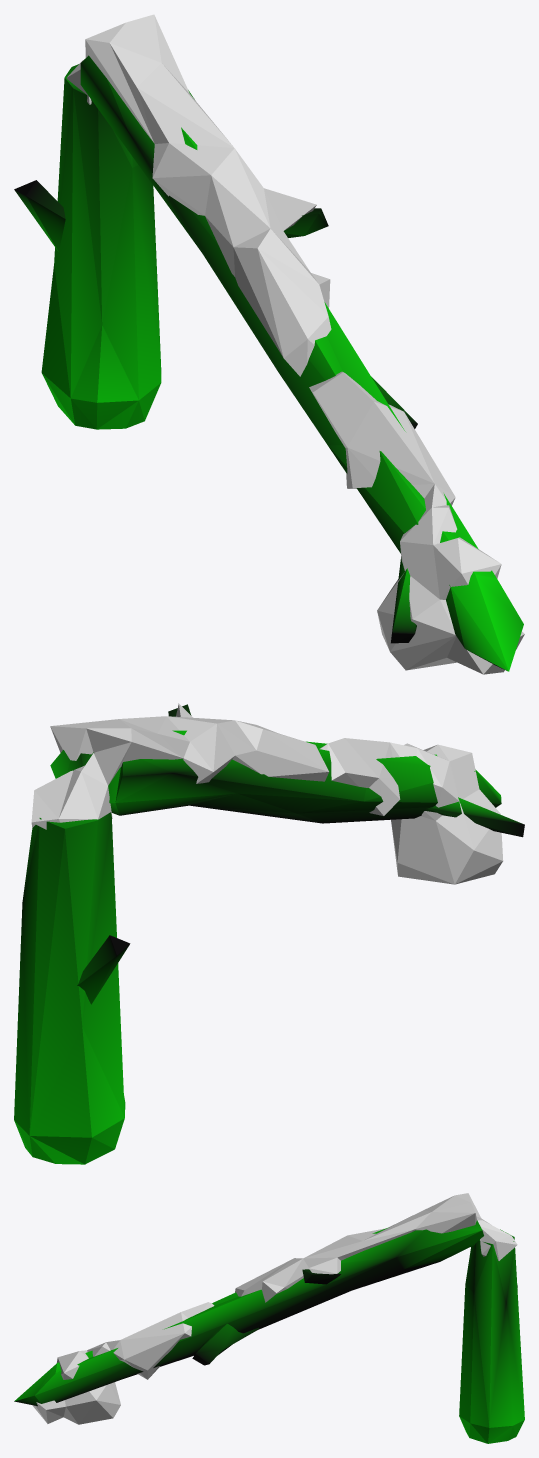
File: SM_Collision_FirFallen2_SnowCover.fbx
3 views of the same model, one above another, from view 1: azimuth 30°, elevation 25°; view 2: azimuth 150°, elevation 25°; view 3: azimuth 270°, elevation 25° (orthographic). The views are drawn at different scales.
Parts seen in each view (by area): view 1: SM_Collision_FirFallen2_SnowCover; view 2: SM_Collision_FirFallen2_SnowCover; view 3: SM_Collision_FirFallen2_SnowCover.
Boxes of the visible parts, bbox=[...] form: SM_Collision_FirFallen2_SnowCover: bbox=[14, 14, 524, 674]; SM_Collision_FirFallen2_SnowCover: bbox=[14, 703, 524, 1164]; SM_Collision_FirFallen2_SnowCover: bbox=[14, 1193, 524, 1443].
Bounding box in the file's own units: 192 × 514 × 1031.
